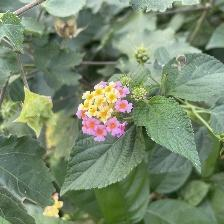common lanthana: (76, 78, 135, 145)
